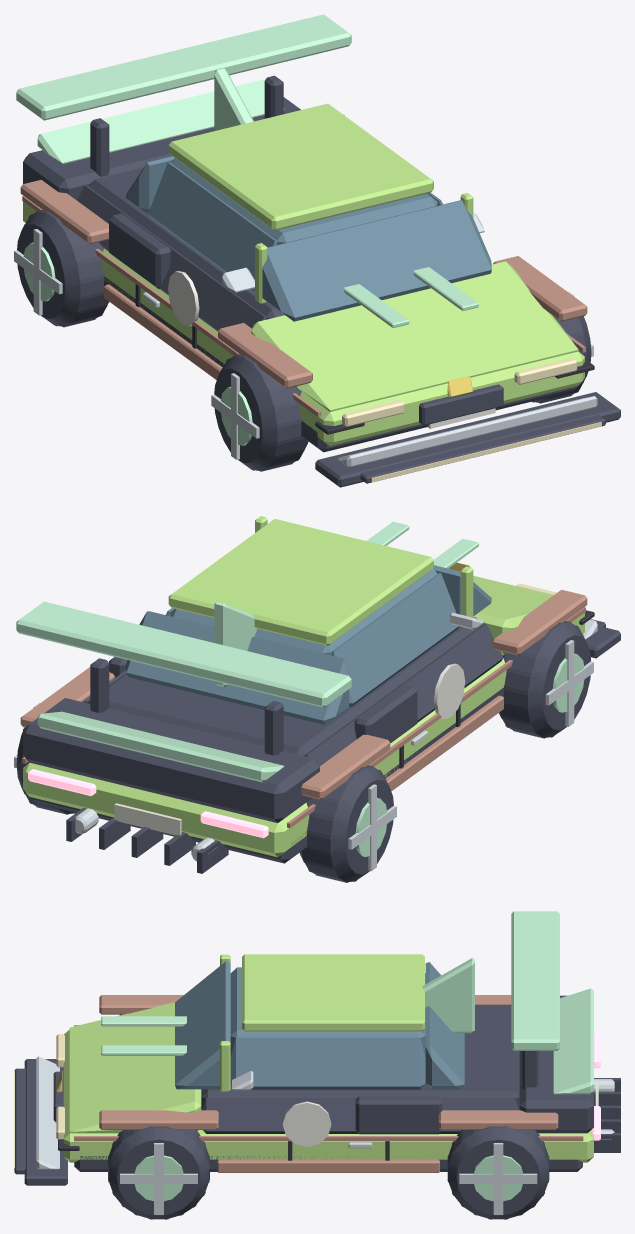
Rendered from pole_position.fbx.
The picture shows the model from 3 angles, top to bottom: view 1: azimuth 30°, elevation 25°; view 2: azimuth 150°, elevation 25°; view 3: azimuth 270°, elevation 25°; orthographic projection. The views are drawn at different scales.
Parts seen in each view (by area): view 1: Body, Glass, Trim, Accent2, Accent, Wheel_FR, Wheel_RR, Accent4, Light, Metal, Light3, Accent3 (+3 smaller); view 2: Trim, Body, Accent2, Glass, Accent, Wheel_RR, Wheel_FR, Metal, Accent3, Light2, Metal2, Light3 (+2 smaller); view 3: Body, Trim, Glass, Accent2, Accent, Wheel_RL, Wheel_FL, Metal, Accent4, Metal2, Light3, Accent3 (+2 smaller).
Boxes of the visible parts, left/top/right/bottom form: Body: left=23, top=103, right=584, bottom=446; Glass: left=125, top=114, right=491, bottom=321; Trim: left=23, top=75, right=620, bottom=487; Accent2: left=16, top=14, right=351, bottom=164; Accent: left=20, top=179, right=587, bottom=416; Wheel_FR: left=214, top=354, right=308, bottom=471; Wheel_RR: left=17, top=210, right=108, bottom=327; Accent4: left=222, top=212, right=597, bottom=467; Light: left=342, top=358, right=601, bottom=482; Metal: left=14, top=229, right=593, bottom=459; Light3: left=343, top=267, right=478, bottom=327; Accent3: left=168, top=270, right=495, bottom=428; Trim: left=23, top=617, right=620, bottom=873; Body: left=23, top=516, right=584, bottom=857; Accent2: left=16, top=601, right=351, bottom=782; Glass: left=125, top=524, right=491, bottom=724; Accent: left=20, top=589, right=587, bottom=828; Wheel_RR: left=299, top=765, right=393, bottom=882; Wheel_FR: left=499, top=621, right=590, bottom=738; Metal: left=14, top=640, right=593, bottom=871; Accent3: left=114, top=663, right=465, bottom=835; Light2: left=28, top=769, right=268, bottom=838; Metal2: left=355, top=653, right=584, bottom=856; Light3: left=367, top=521, right=478, bottom=568; Body: left=63, top=954, right=593, bottom=1162; Trim: left=14, top=995, right=620, bottom=1185; Glass: left=175, top=961, right=464, bottom=1089; Accent2: left=422, top=911, right=593, bottom=1094; Accent: left=74, top=995, right=583, bottom=1172; Wheel_RL: left=447, top=1126, right=549, bottom=1219; Wheel_FL: left=108, top=1126, right=209, bottom=1219; Metal: left=120, top=1079, right=614, bottom=1214; Accent4: left=36, top=1056, right=253, bottom=1169; Metal2: left=134, top=1155, right=522, bottom=1201; Light3: left=101, top=1016, right=186, bottom=1055; Accent3: left=55, top=1080, right=598, bottom=1146.
Size of the model in its own units: 3.1 by 1.99 by 5.61.
